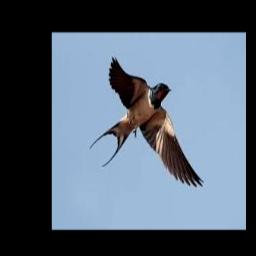Swallow: (90, 56, 205, 186)
